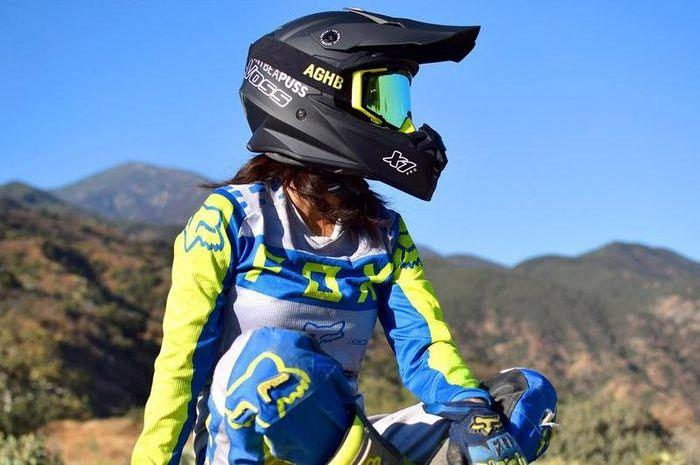helmet: (230, 8, 487, 218)
